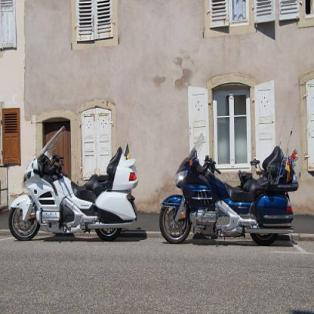Motocicleta: (160, 139, 297, 257), (6, 127, 140, 246)
